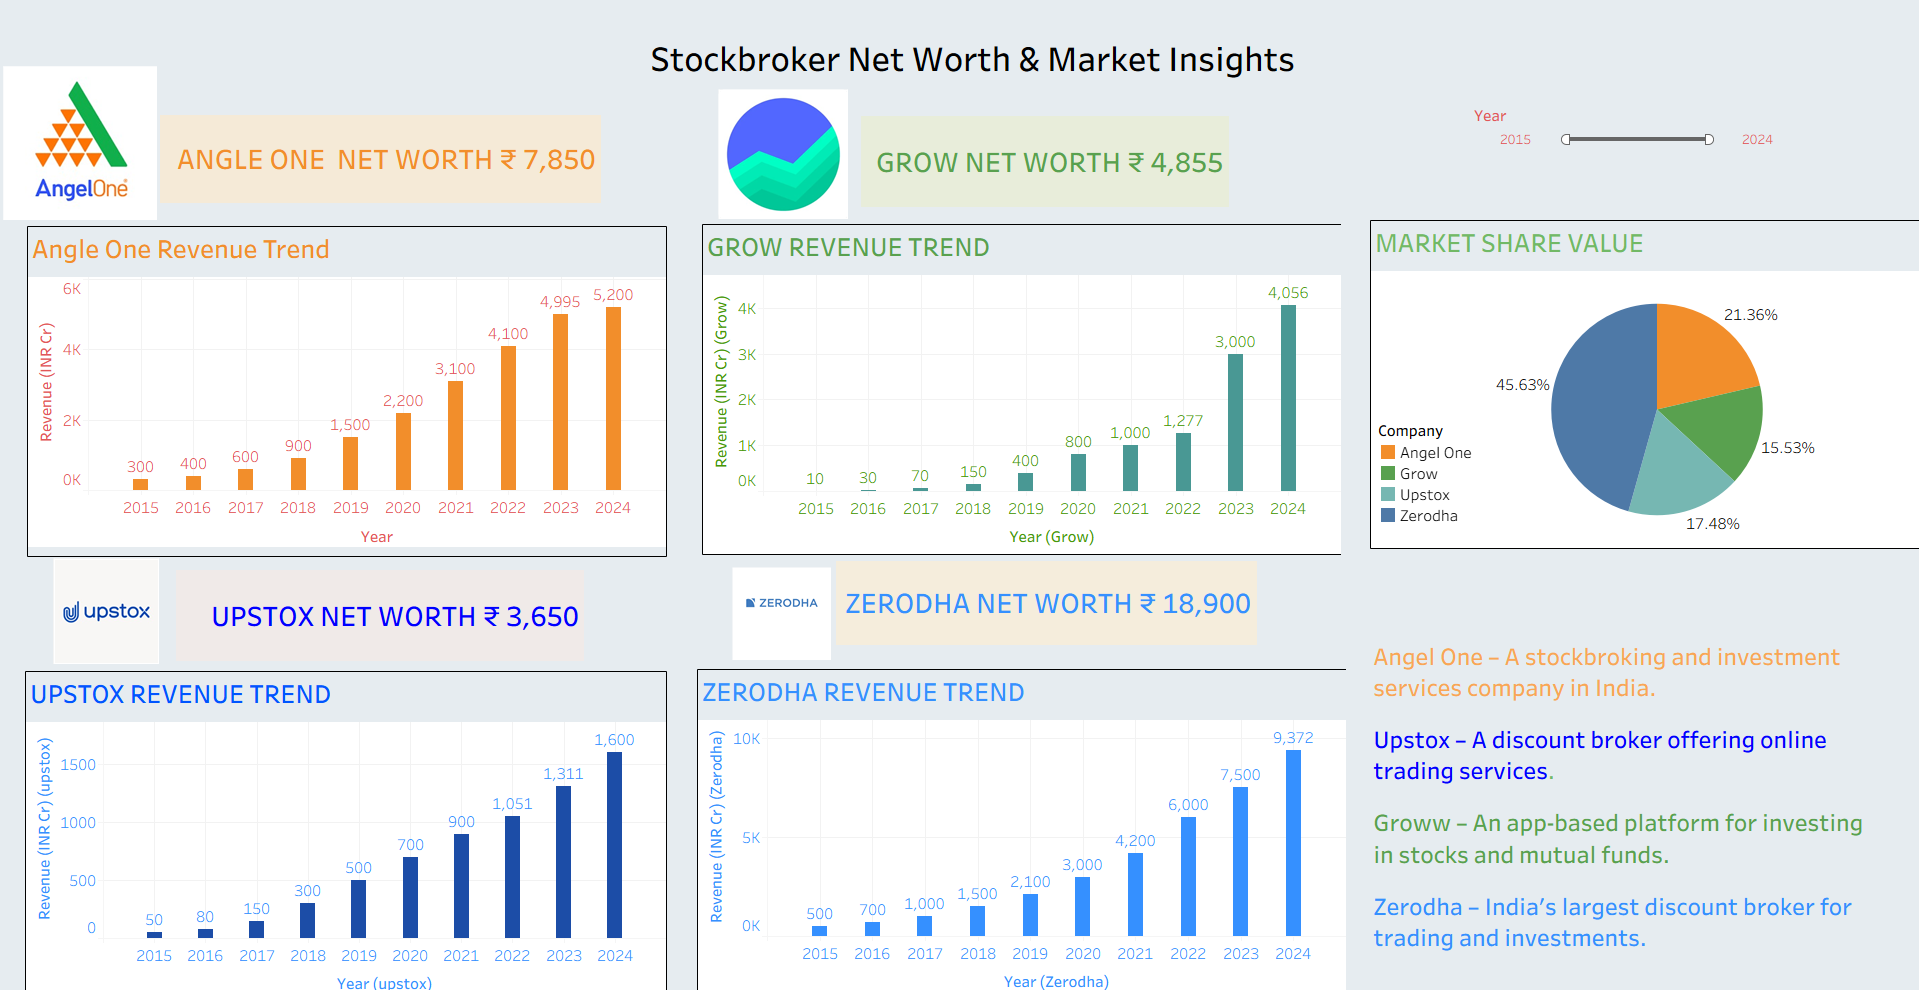

What the dashboard file says about the page in this screenshot:
{"tool":"tableau","page":{"name":"Dashboard 2","canvas":[1000,1000],"units":"permille","ordinal":1},"visuals":[{"type":"text","box":[336.9,4.7,402.5,104.5]},{"type":"image","param":"Image/IMG-20250917-WA0029.jpg","box":[1.6,63.9,80,162.6]},{"type":"image","param":"Image/IMG-20250917-WA0028.jpg","box":[342.7,90.6,106.5,131.2]},{"type":"filter","title":"Sheet 1","param":"[federated.19bdsbw06x80741b1lqpw1bcte57].[none:Year:qk]","box":[720,98.7,263.7,113.8]},{"type":"worksheet","title":"Sheet 5 (2)","mark":"Automatic","box":[432.2,115,221.4,91.8]},{"type":"worksheet","title":"Sheet 5","mark":"Automatic","box":[83.3,116.1,266.1,88.3]},{"type":"worksheet","title":"Sheet 2","mark":"Bar","rows":["Revenue (INR Cr) (Grow)"],"cols":["Year (Grow)"],"box":[365.5,225.3,333.2,333.3]},{"type":"worksheet","title":"Sheet 1","mark":"Bar","rows":["Revenue (INR Cr)"],"cols":["Year"],"box":[14.3,227.6,333.2,333.3]},{"type":"legend","title":"Sheet 6","param":"[federated.19bdsbw06x80741b1lqpw1bcte57].[none:Company:nk]","box":[717.6,422.8,83.9,123.1]},{"type":"image","param":"Image/4a8fc04a855b4e7a968e268b08543958.jpg","box":[326.5,569.1,138.8,94.1]},{"type":"worksheet","title":"Sheet 5 (4)","mark":"Automatic","box":[426.1,573.8,254.1,84.8]},{"type":"worksheet","title":"Sheet 5 (3)","mark":"Automatic","box":[70.6,577.2,275.2,91.8]},{"type":"text","box":[712.1,620.2,262.5,372.8]}]}

Visuals, with their boxes on the dashboard's canvas, which has no fixed pixel size, in thousandths of its width and height (x1, y1, x2, y2). These are canvas units, not pixel positions in the 1919x990 screenshot, which may show the page scaled, cropped or inside an application window:
text: crop(337, 5, 739, 109)
image: crop(2, 64, 82, 226)
image: crop(343, 91, 449, 222)
"Sheet 1" filter: crop(720, 99, 984, 212)
"Sheet 5 (2)" worksheet: crop(432, 115, 654, 207)
"Sheet 5" worksheet: crop(83, 116, 349, 204)
"Sheet 2" worksheet (Bar marks): crop(366, 225, 699, 559)
"Sheet 1" worksheet (Bar marks): crop(14, 228, 348, 561)
"Sheet 6" legend: crop(718, 423, 802, 546)
image: crop(326, 569, 465, 663)
"Sheet 5 (4)" worksheet: crop(426, 574, 680, 659)
"Sheet 5 (3)" worksheet: crop(71, 577, 346, 669)
text: crop(712, 620, 975, 993)
